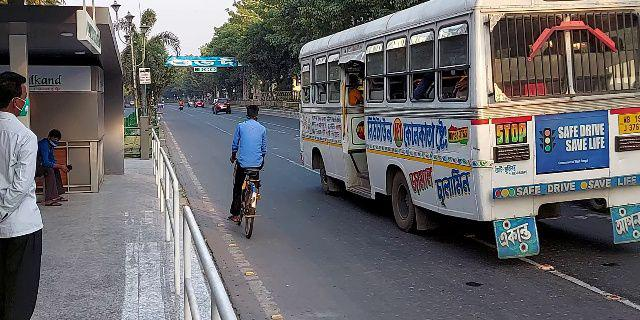Bus: (291, 1, 640, 261)
Car: (207, 95, 235, 117)
Cycle: (225, 102, 270, 239)
